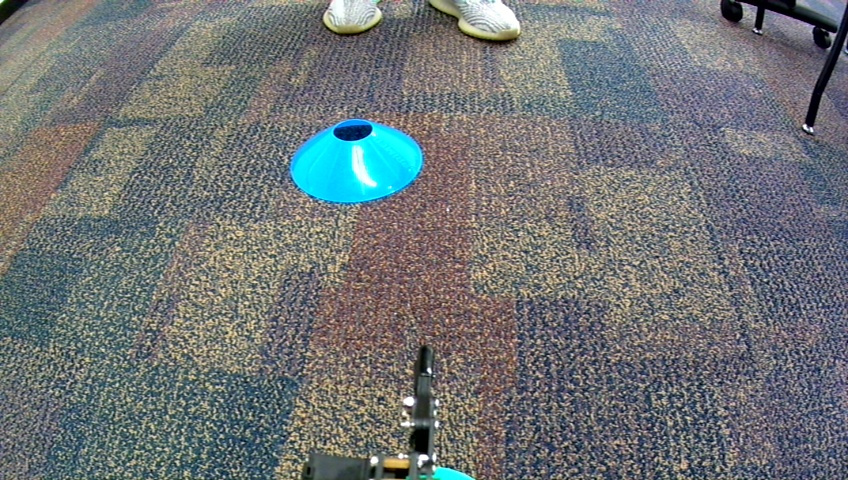cone: (289, 118, 424, 204)
